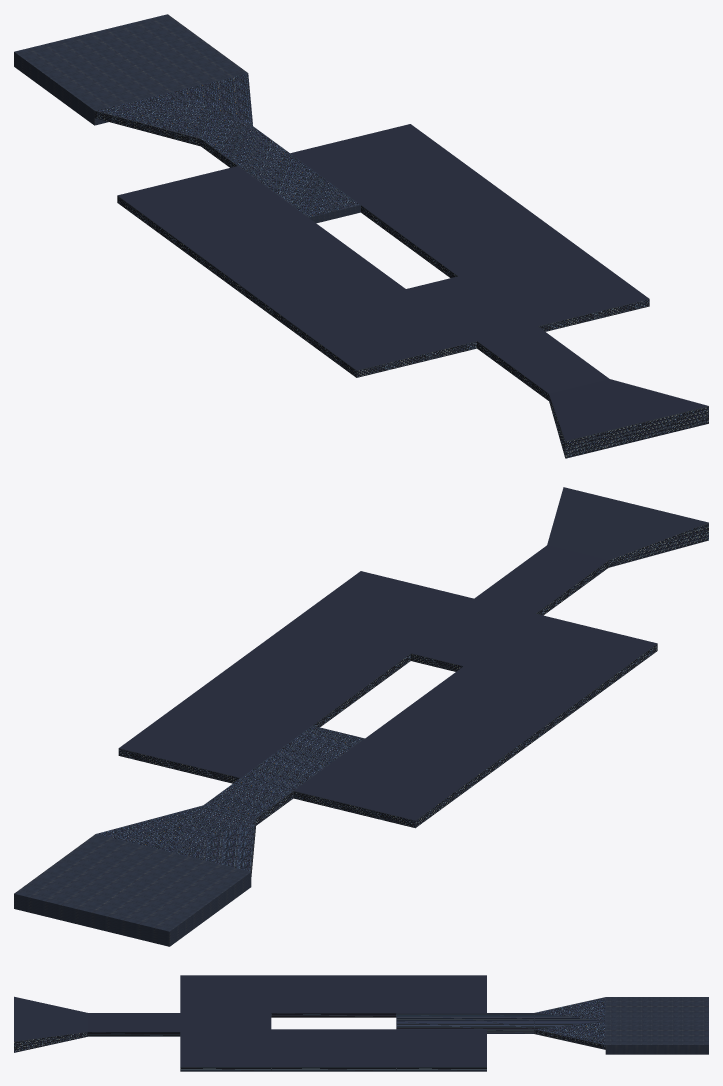
The model's file is stage_test.fbx.
3 views of the same model, one above another, from view 1: azimuth 30°, elevation 25°; view 2: azimuth 150°, elevation 25°; view 3: azimuth 270°, elevation 25° (orthographic). The views are drawn at different scales.
Visible parts, largest first — view 1: Box001; view 2: Box001; view 3: Box001.
Part boxes in pixels (x1,y1,x2,y2): Box001: (14,14,708,458); Box001: (14,487,708,946); Box001: (14,975,708,1071).
Bounding box in the file's own units: 174 × 557 × 11.39.
